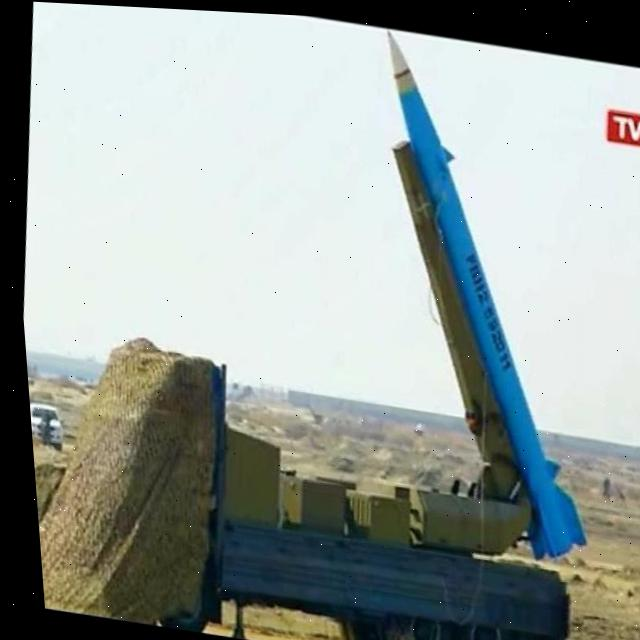missile: (334, 23, 629, 555)
